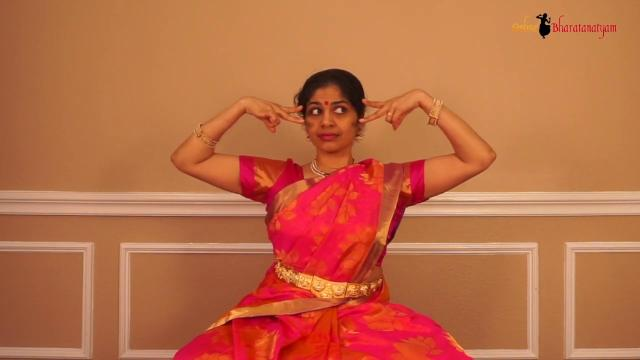kartarimukh: (356, 70, 446, 140), (228, 78, 314, 144)
